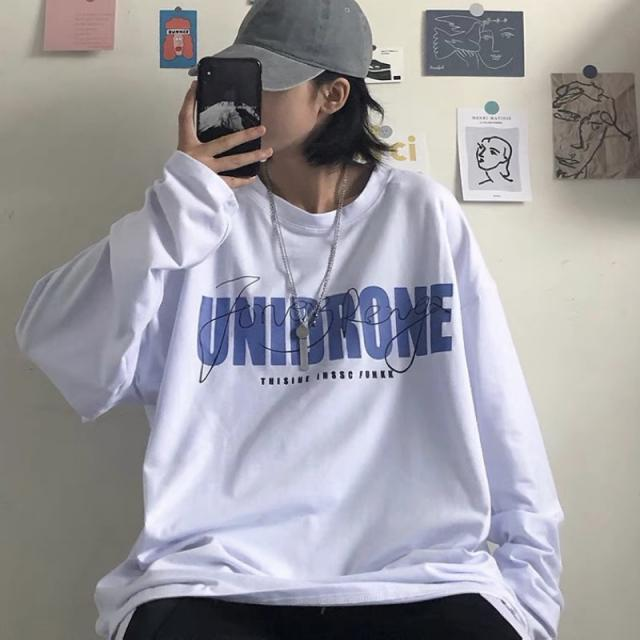Shirt: (18, 148, 566, 640)
